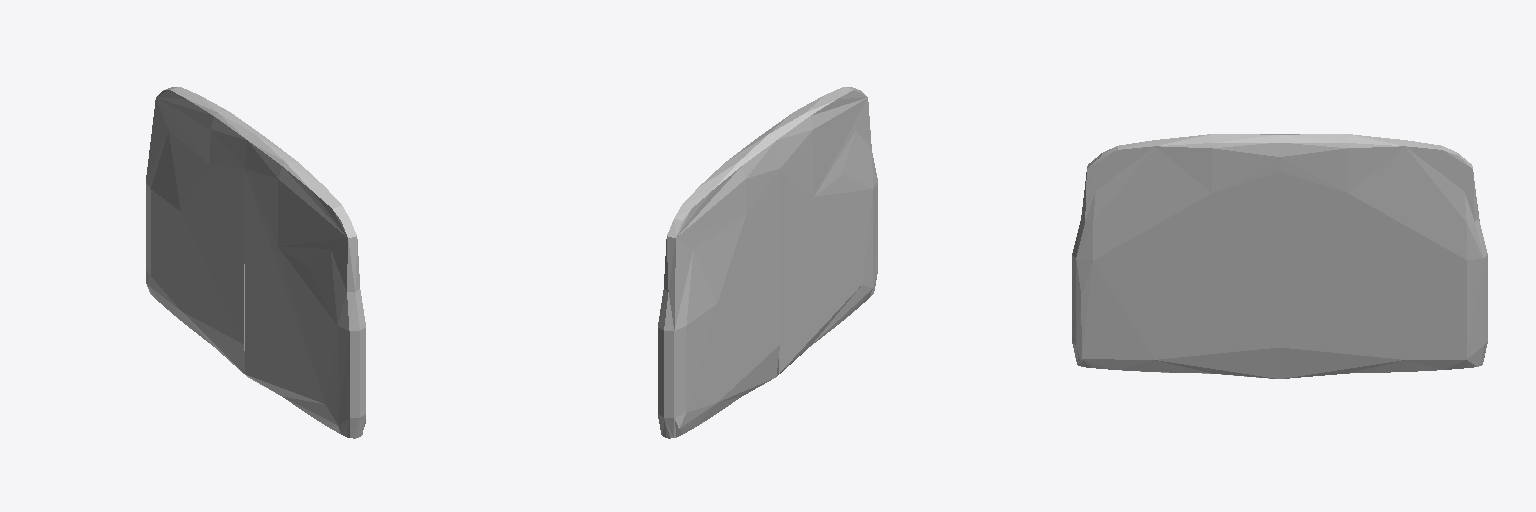
File: backboard.obj
3 views of the same model, side by side, from view 1: azimuth 30°, elevation 25°; view 2: azimuth 150°, elevation 25°; view 3: azimuth 270°, elevation 25° (orthographic).
Visible parts, largest first — view 1: polySurface8; view 2: polySurface8; view 3: polySurface8.
Part boxes in pixels (x1,y1,x2,y2): polySurface8: (146, 87, 365, 438); polySurface8: (658, 87, 877, 438); polySurface8: (1072, 134, 1487, 378).
Bounding box in the file's own units: 1.07 × 10.13 × 15.74.